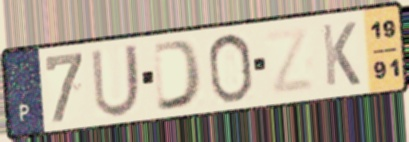7: (43, 50, 85, 125)
D: (150, 37, 205, 114)
K: (319, 20, 363, 89)
O: (206, 31, 255, 106)
U: (88, 41, 143, 120)
Z: (263, 23, 318, 98)
